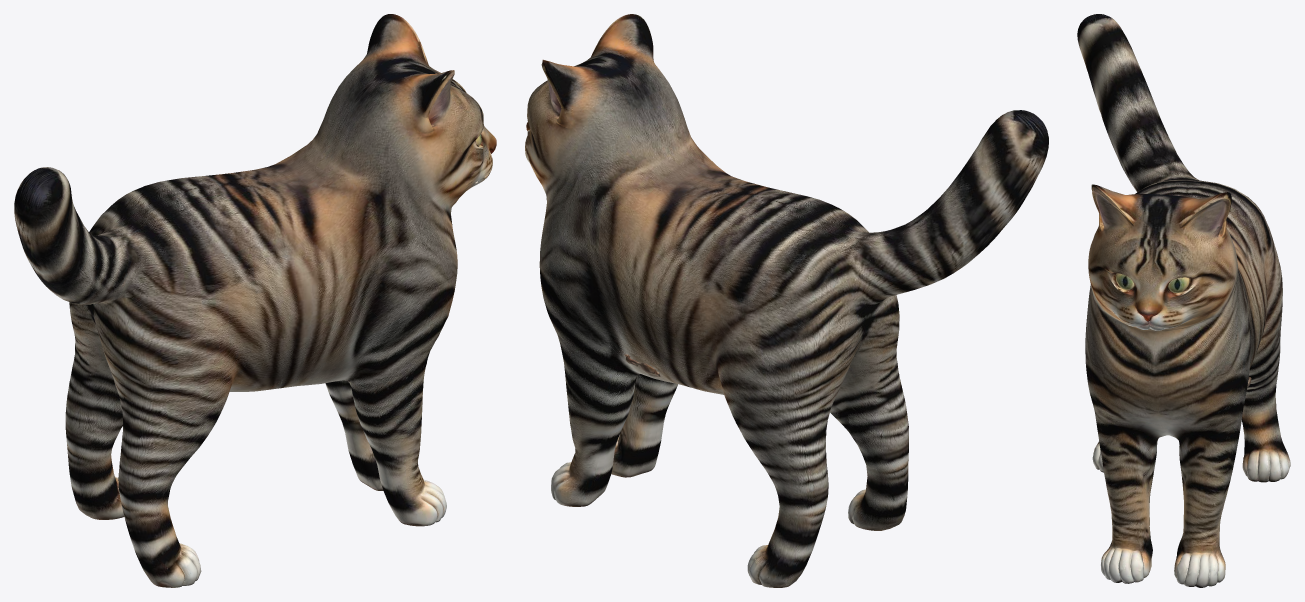
File: MARUBOX.glb
The picture shows the model from 3 angles, left to right: view 1: azimuth 30°, elevation 25°; view 2: azimuth 150°, elevation 25°; view 3: azimuth 270°, elevation 25°; orthographic projection. The views are drawn at different scales.
Parts seen in each view (by area): view 1: fit; view 2: fit; view 3: fit.
Boxes of the visible parts, x1,y1,x2,y2 form: fit: (14, 14, 496, 587); fit: (525, 14, 1048, 587); fit: (1077, 14, 1290, 587).
Bounding box in the file's own units: 1.16 × 0.9999 × 0.4886.
Materials: 1 (1 with a texture image).
